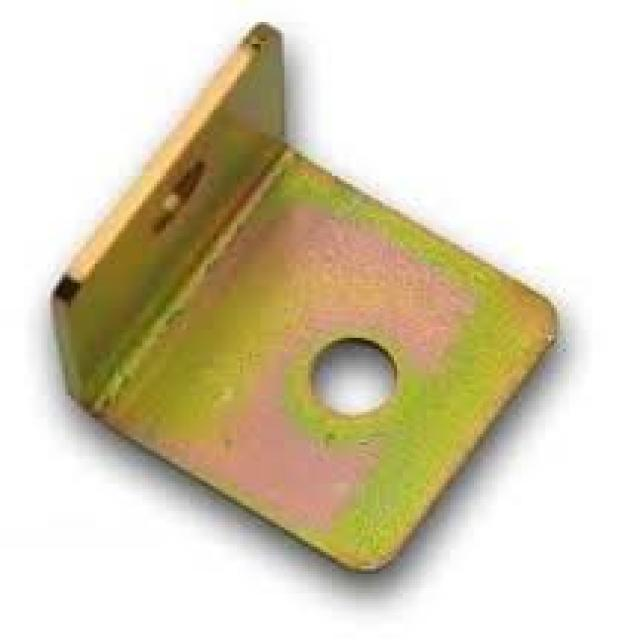holes: (308, 335, 397, 418)
